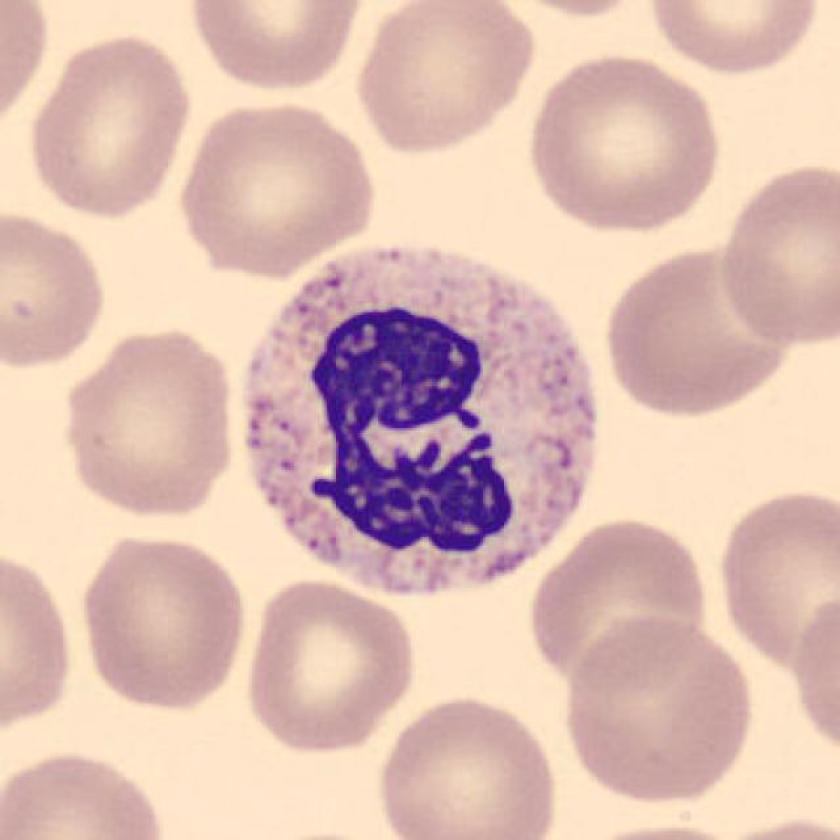neutrophil: (248, 248, 594, 593)
